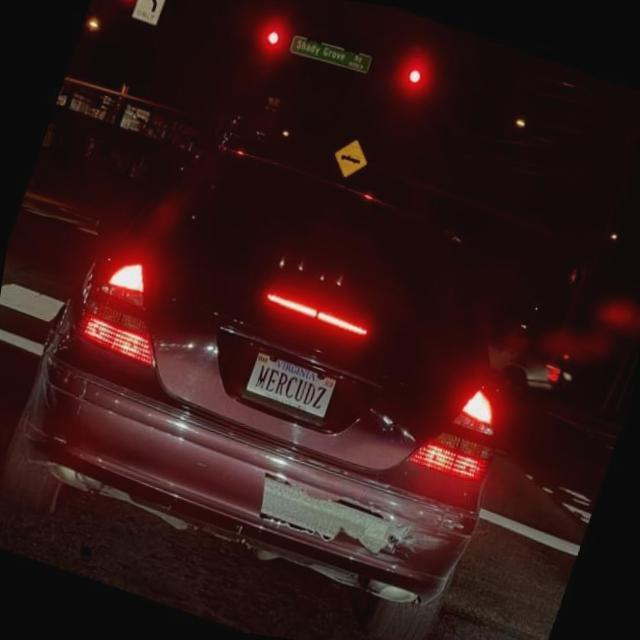license-plate: (239, 354, 344, 426)
